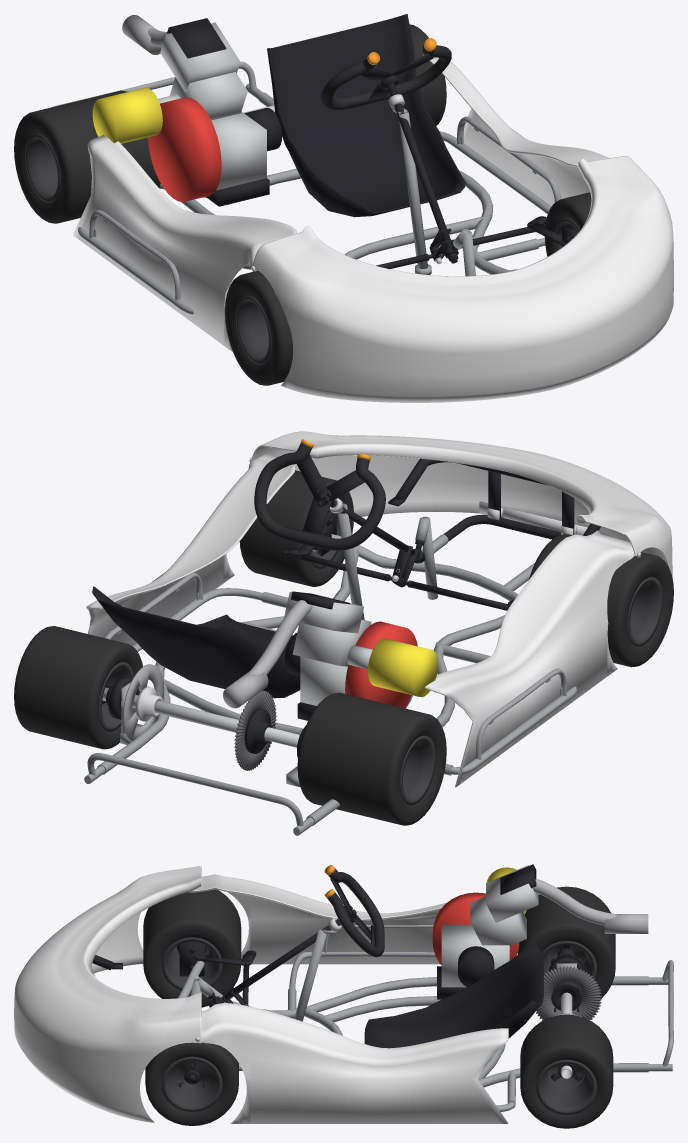
File: OKT_Kart.fbx
The picture shows the model from 3 angles, top to bottom: view 1: azimuth 30°, elevation 25°; view 2: azimuth 150°, elevation 25°; view 3: azimuth 270°, elevation 25°; orthographic projection. The views are drawn at different scales.
Visible parts, largest first — view 1: BodyNose_Pointed, SeatShell, BodySide_R_Pointed, Engine_Block, Tire_RR, BodySide_L_Pointed, Engine_Starter, Tire_RF, BézierCurve, Engine_MountClutch, Engine_AirFilter, SteeringWheel (+12 smaller); view 2: BodyNose_Pointed, BodySide_R_Pointed, Tire_RR, Tire_LR, SeatShell, BodySide_L_Pointed, BézierCurve, Engine_Block, Tire_LF, Tire_RF, SteeringWheel, Engine_AirFilter (+23 smaller); view 3: BodyNose_Pointed, BodySide_L_Pointed, BodySide_R_Pointed, SeatShell, Tire_RF, Tire_LR, Engine_Block, BézierCurve, Tire_RR, Tire_LF, Rim_LF, Rim_LR (+15 smaller).
Part boxes in pixels (bbox=[...]): BodyNose_Pointed: bbox=[252, 156, 673, 402]; SeatShell: bbox=[267, 14, 465, 217]; BodySide_R_Pointed: bbox=[73, 134, 296, 351]; Engine_Block: bbox=[158, 22, 266, 190]; Tire_RR: bbox=[14, 90, 160, 223]; BodySide_L_Pointed: bbox=[423, 54, 609, 206]; Engine_Starter: bbox=[148, 97, 221, 201]; Tire_RF: bbox=[225, 270, 292, 385]; BézierCurve: bbox=[159, 92, 539, 274]; Engine_MountClutch: bbox=[167, 18, 282, 206]; Engine_AirFilter: bbox=[92, 88, 162, 143]; SteeringWheel: bbox=[321, 45, 451, 109]; BodyNose_Pointed: bbox=[251, 431, 672, 577]; BodySide_R_Pointed: bbox=[425, 530, 634, 787]; Tire_RR: bbox=[297, 692, 446, 825]; Tire_LR: bbox=[14, 626, 142, 749]; SeatShell: bbox=[92, 586, 300, 698]; BodySide_L_Pointed: bbox=[86, 454, 297, 645]; BézierCurve: bbox=[97, 534, 535, 825]; Engine_Block: bbox=[284, 592, 372, 705]; Tire_LF: bbox=[239, 470, 353, 586]; Tire_RF: bbox=[529, 534, 673, 667]; SteeringWheel: bbox=[254, 443, 385, 550]; Engine_AirFilter: bbox=[368, 638, 438, 697]; BodyNose_Pointed: bbox=[14, 866, 201, 1122]; BodySide_L_Pointed: bbox=[201, 1003, 508, 1123]; BodySide_R_Pointed: bbox=[189, 874, 446, 964]; SeatShell: bbox=[364, 943, 543, 1048]; Tire_RF: bbox=[143, 889, 241, 1007]; Tire_LR: bbox=[520, 1014, 613, 1128]; Engine_Block: bbox=[441, 865, 538, 987]; BézierCurve: bbox=[177, 960, 648, 1108]; Tire_RR: bbox=[517, 886, 615, 998]; Tire_LF: bbox=[145, 1042, 238, 1125]; Rim_LF: bbox=[162, 1056, 222, 1111]; Rim_LR: bbox=[536, 1059, 596, 1114].
Size of the model in its own units: 1.09 by 0.5849 by 1.85.
